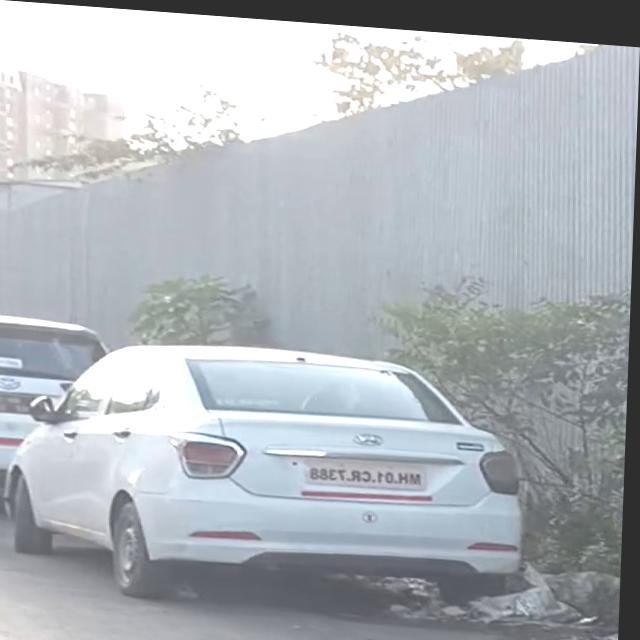plate: (309, 448, 432, 487), (0, 391, 39, 415)
